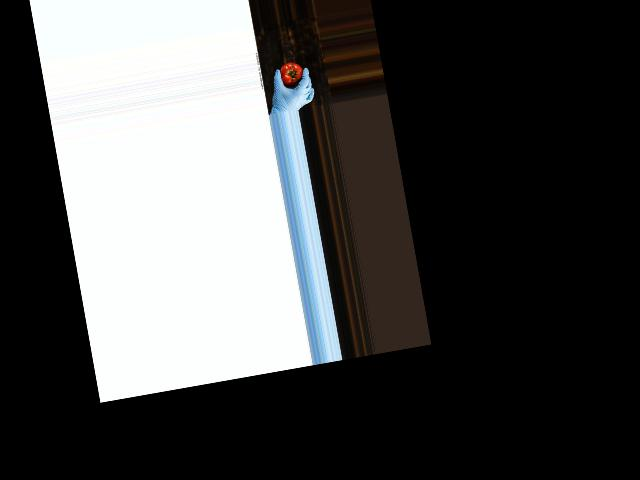tomato: (278, 59, 305, 88)
